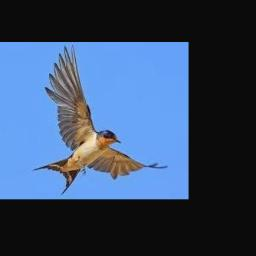Swallow: (31, 45, 167, 196)
